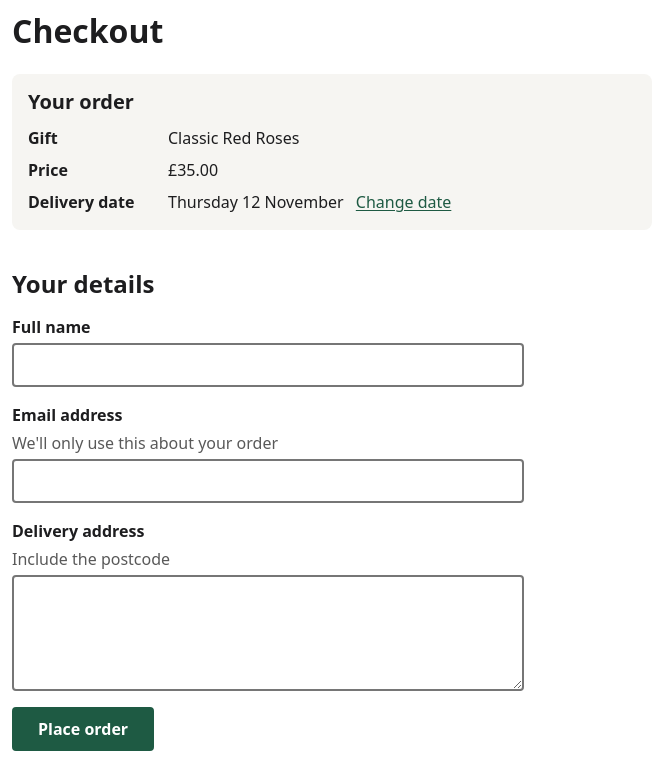
CheckoutPageComponent › placing the order › asks the customer to wait when rate limited
The image size is (669, 780).
Type "Ada Lovelace" into the field labelled "Full name". click: (268, 365)
box: [12, 343, 524, 387]
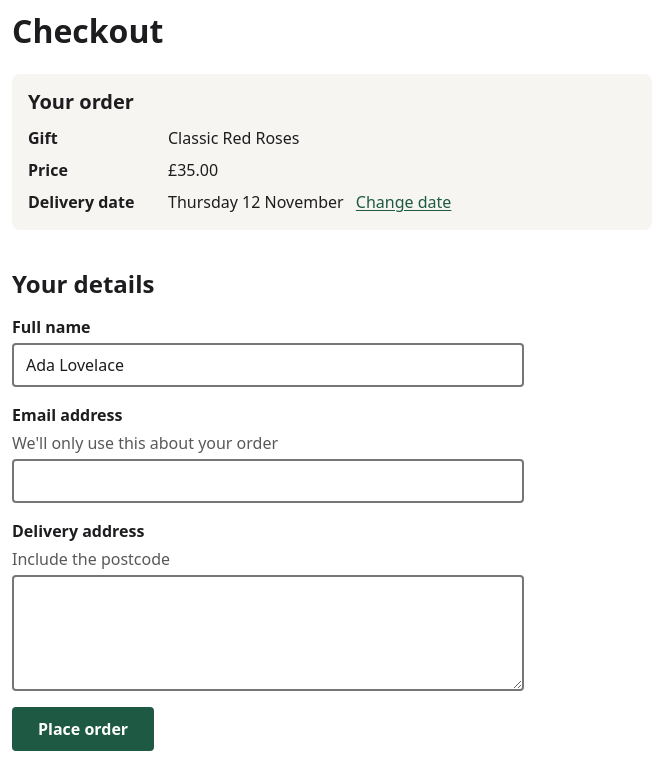
Type "ada@example.com" into the field labelled "Email address". click: (268, 481)
box: [12, 459, 524, 503]
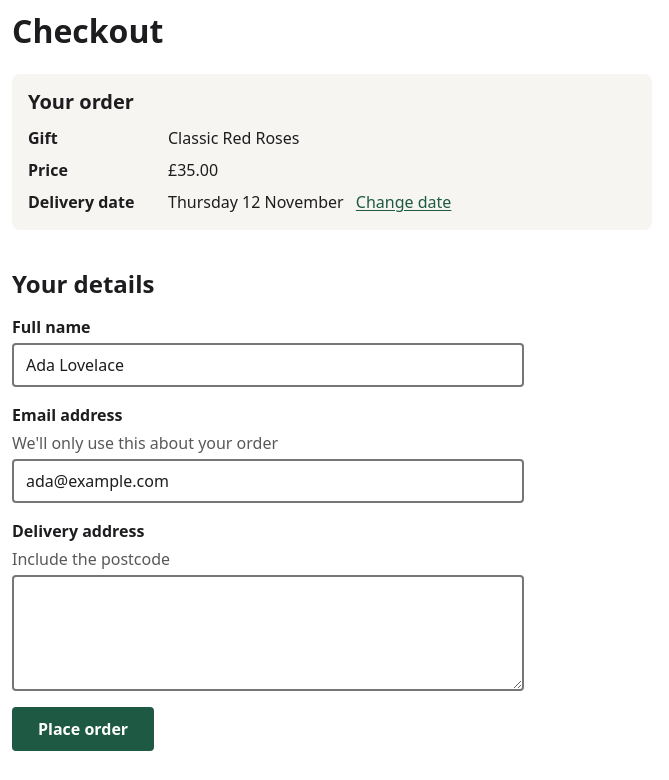
Type "1 Test Street, London N1 1AA" into the text box labelled "Delivery address". click: (268, 633)
box: [12, 575, 524, 691]
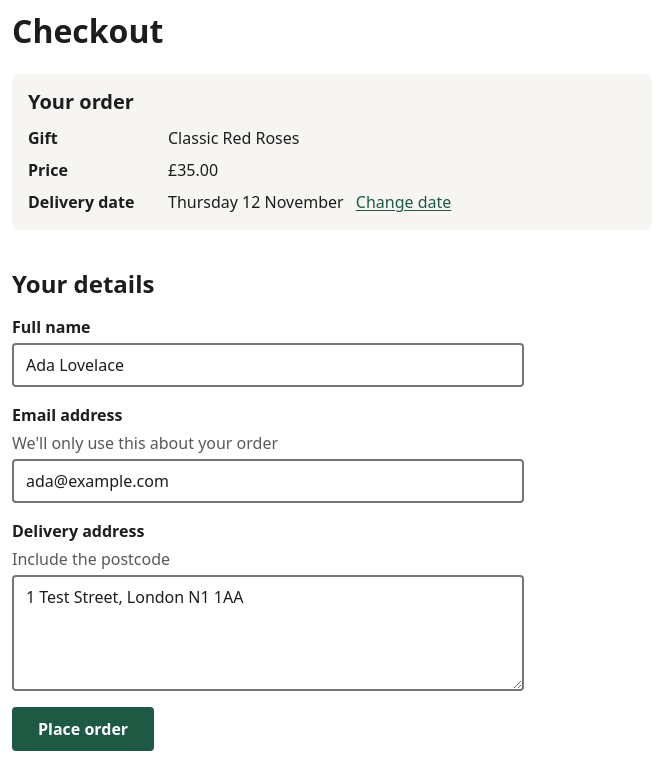
Click the submit button. click: (83, 729)
box: [12, 707, 154, 751]
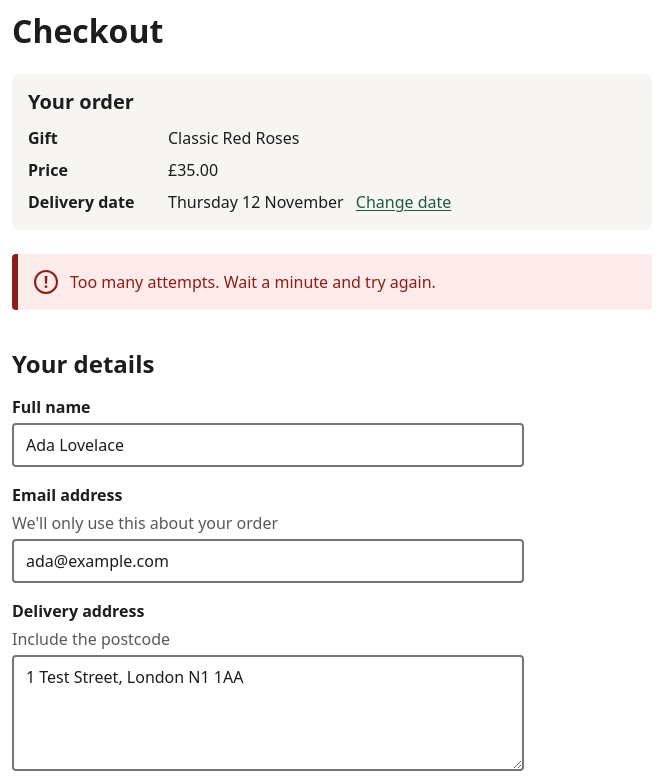
expect the text "Too many attempts. Wait a minute and try again." is shown: met, box [70, 270, 436, 294]
